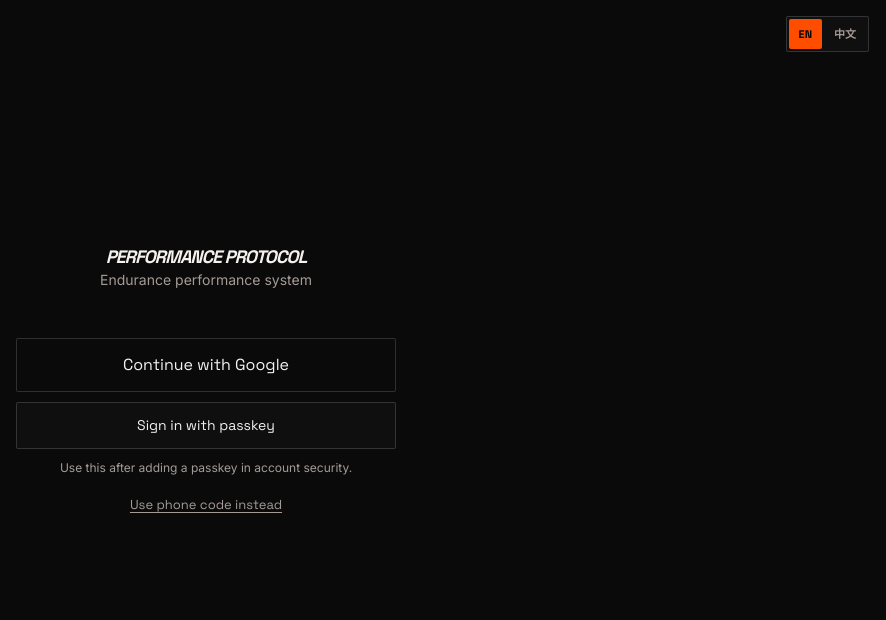
Test case: LoginPage › shows OTP input after send-otp success
This screenshot has width=886, height=620.
Click the button "Use phone code instead": (206, 505) x1=130 y1=495 x2=282 y2=515
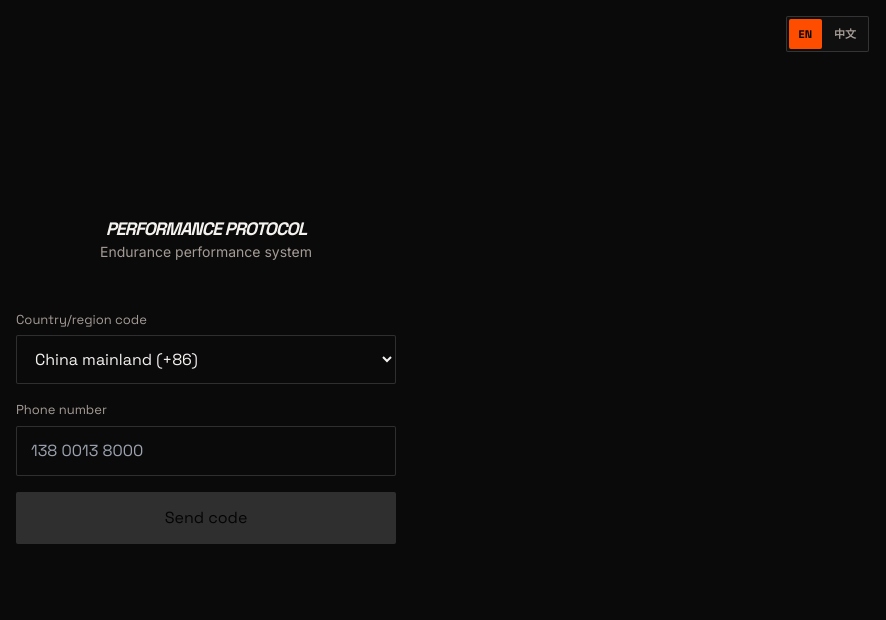
In the field with placeholder "138 0013 8000": (206, 450) x1=16 y1=426 x2=396 y2=476, type "13800138000"
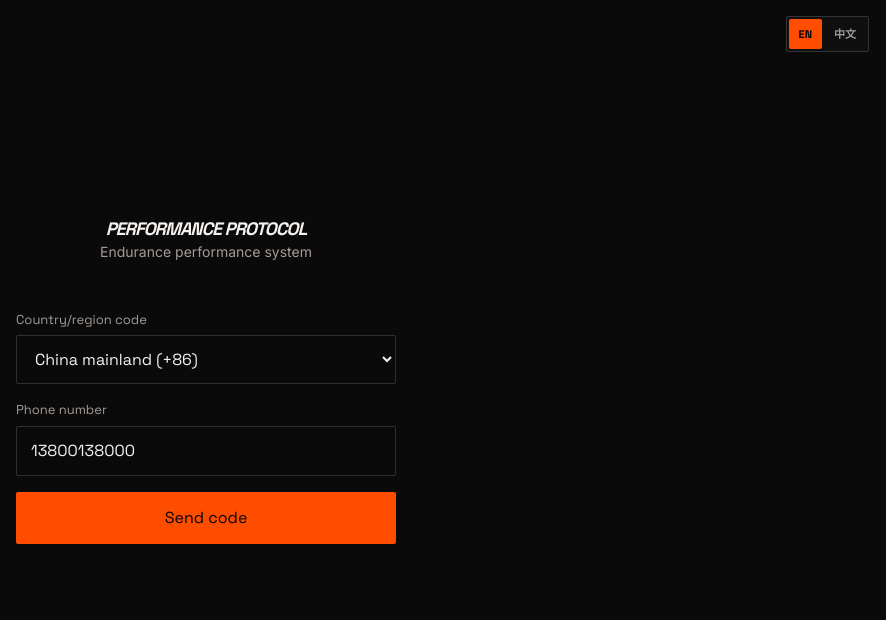
Click the button "Send code": (206, 518) x1=16 y1=492 x2=396 y2=544
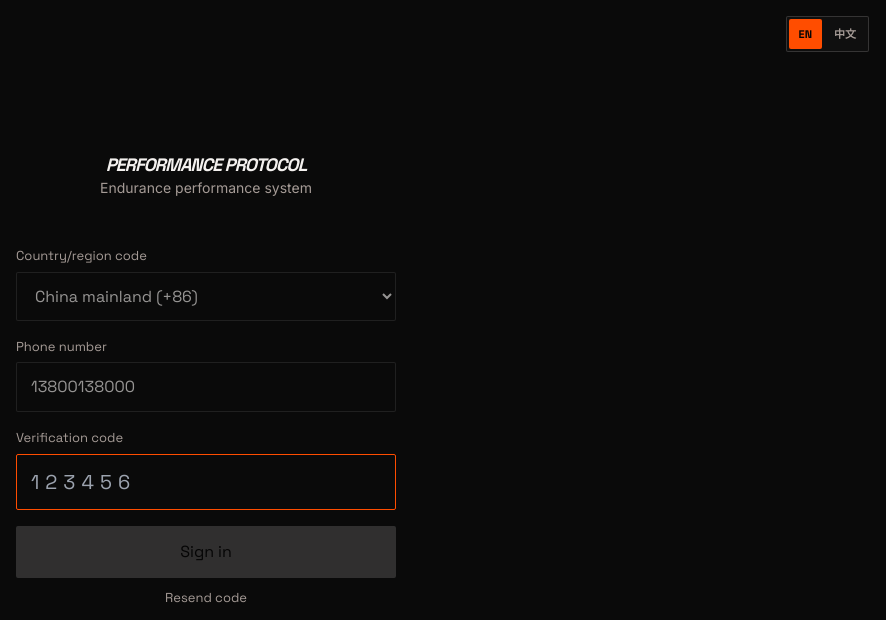
Expected: the field labelled "Verification code" is shown, x1=16 y1=454 x2=396 y2=510
